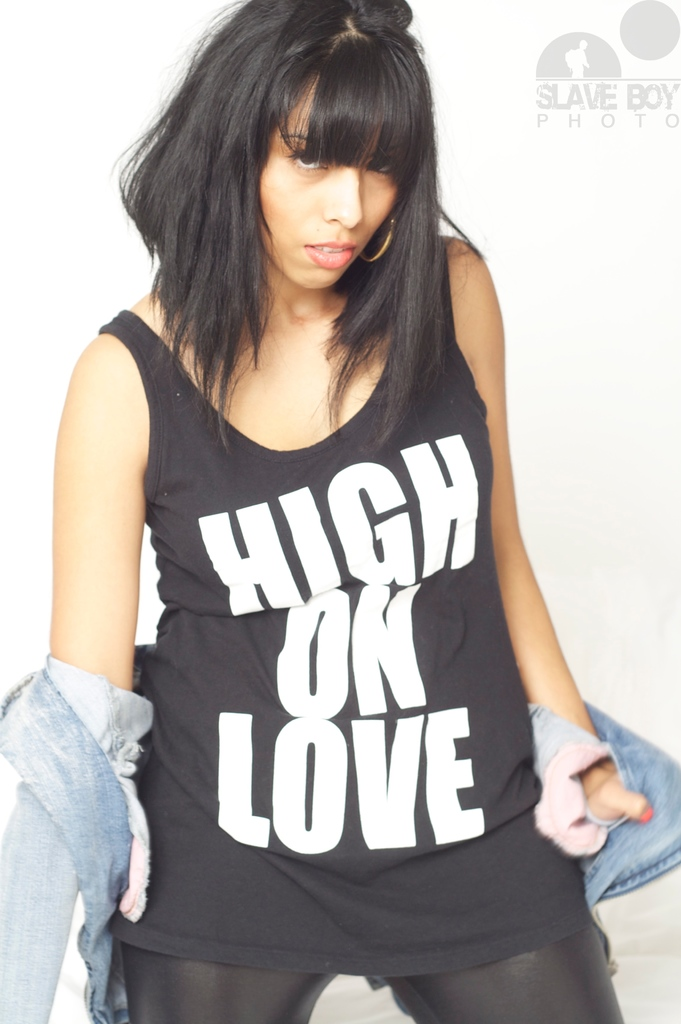Human_hand: (567, 735, 651, 829)
